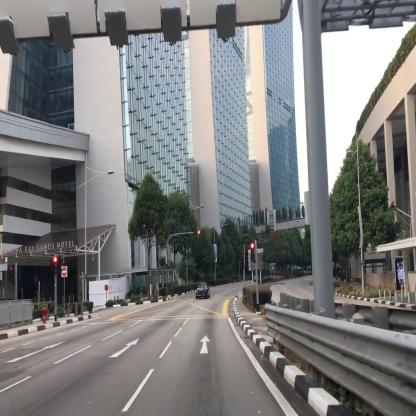red_traffic_light: (53, 257, 58, 273), (250, 243, 254, 261), (193, 231, 200, 234)
